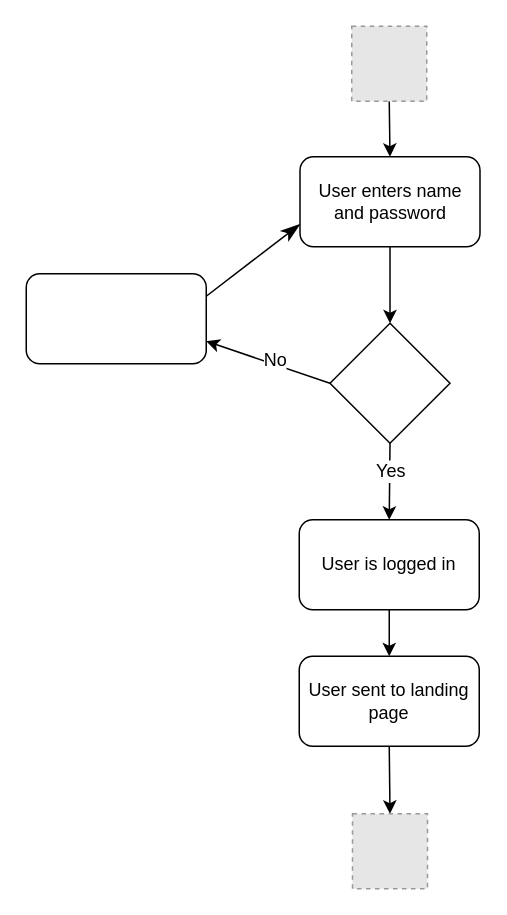
This 507x915 diagram has some shape labels left out. Grey dashed boxes stand in for pictures. The centre of each missing label's shape, as x and y in pixels:
"Correct information" goes at (x=389, y=382).
"Warn User of incorrect credentiasl" goes at (x=115, y=318).
